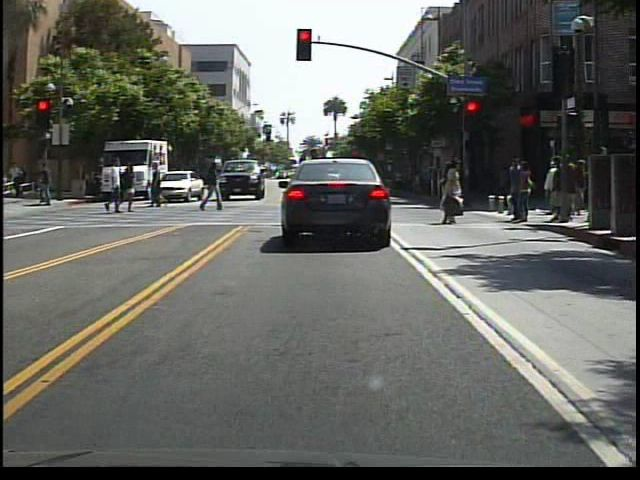person: (291, 134, 327, 233), (432, 159, 470, 227), (202, 160, 229, 216), (103, 158, 127, 219), (35, 162, 61, 213), (147, 161, 167, 213), (123, 164, 141, 214)
